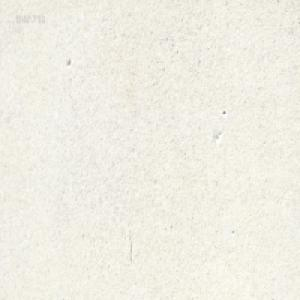Wrench: (133, 0, 139, 4)
